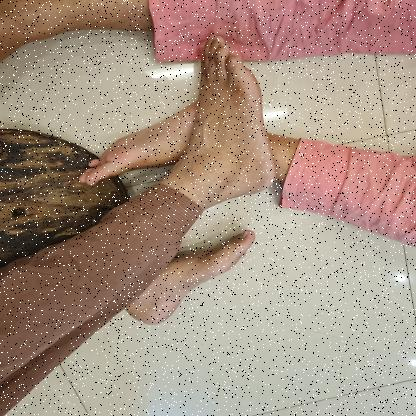leg: (154, 24, 294, 208), (120, 224, 275, 327), (74, 92, 196, 195)
